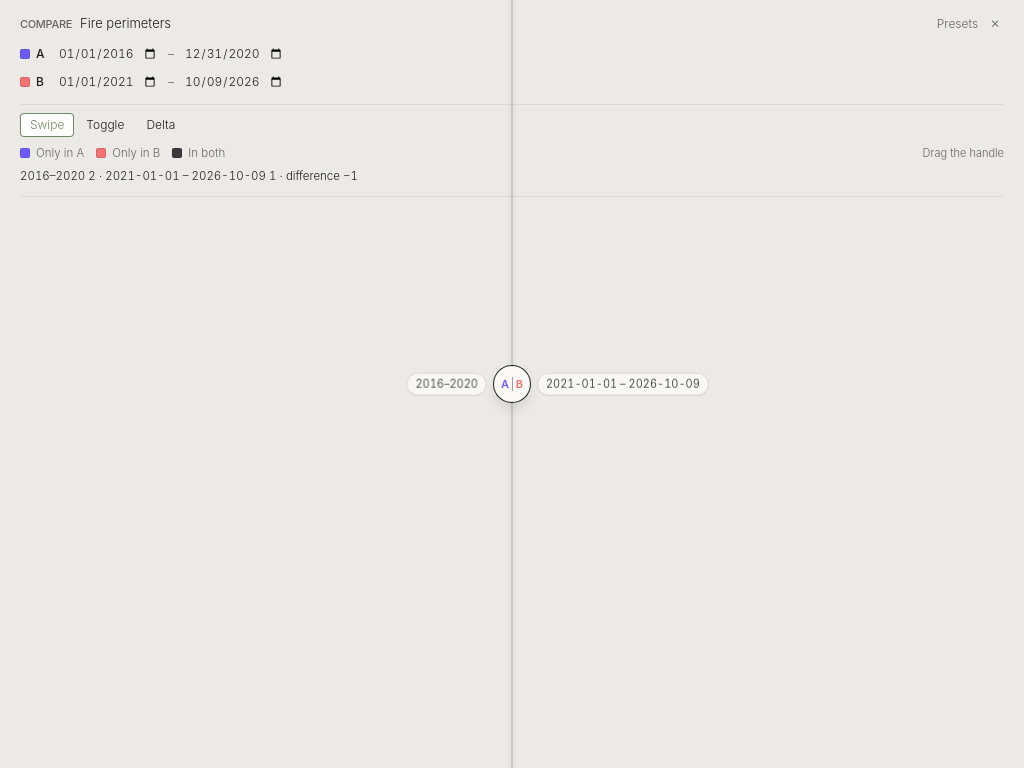
CompareControl › exits with × (and Escape)
The image size is (1024, 768).
Click the button with test id "compare-exit": [995, 22] box top-left (986, 15), bottom-right (1004, 30)
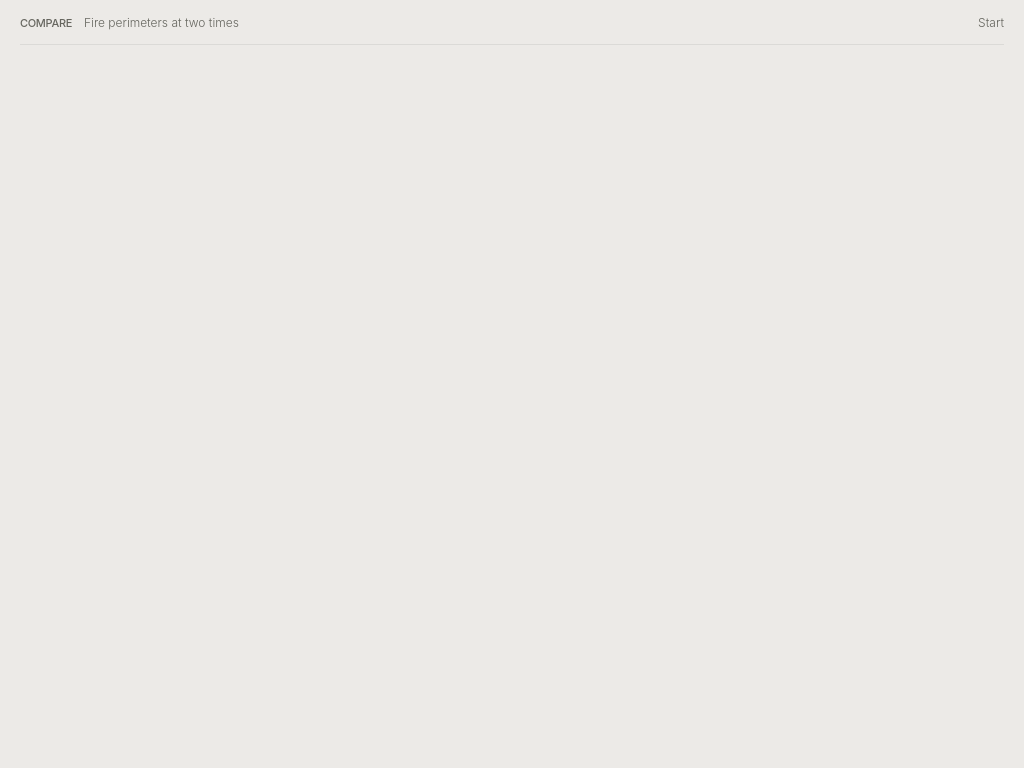
Expected: the element with test id "compare-control" is gone
Expected: the slider with test id "compare-handle" is gone
Expected: the button with test id "compare-open" is shown, top-left (978, 14), bottom-right (1004, 32)
